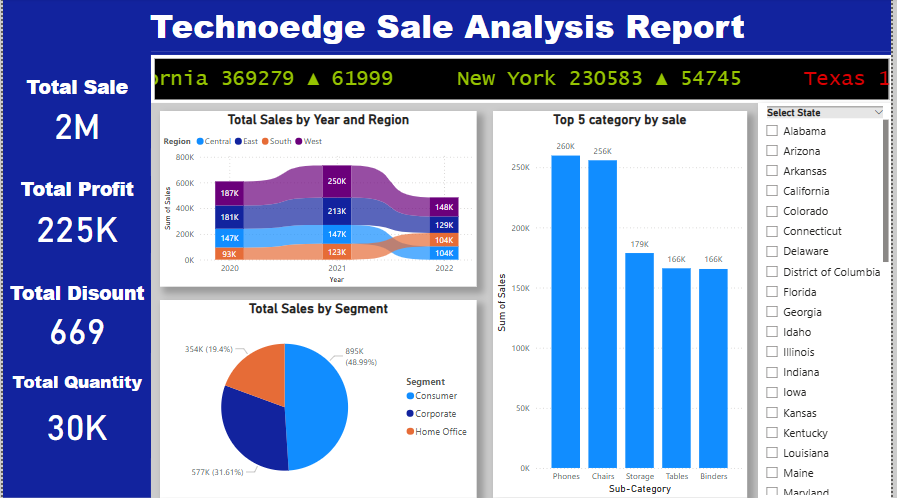

The dashboard page shown, as its layout file describes it:
{"tool":"powerbi","page":{"name":"Page 1","canvas":[1280,720],"ordinal":0},"visuals":[{"type":"shape","title":"Technoedge Sale Analysis Report","box":[0,0,1280.2,82.1],"z":0},{"type":"shape","box":[0,66.2,213.1,653.8],"z":1000},{"type":"card","title":"Total Sale","fields":{"Values":["Sum(TechnoEdge Monthy Sales Data.Sales)"]},"box":[0,109.4,213.1,106.6],"z":2000},{"type":"card","title":"Total Profit","fields":{"Values":["Sum(TechnoEdge Monthy Sales Data.Profit)"]},"box":[0,256.3,213.1,110.9],"z":3000},{"type":"card","title":"Total Disount","fields":{"Values":["Sum(TechnoEdge Monthy Sales Data.Discount)"]},"box":[0,406.1,213.1,105.1],"z":4000},{"type":"card","title":"Total Quantity","fields":{"Values":["Sum(TechnoEdge Monthy Sales Data.Quantity)"]},"box":[0,535.7,213.1,126.7],"z":5000},{"type":"ribbonChart","title":"Total Sales by Year and Region","fields":{"Category":["TechnoEdge Monthy Sales Data.Order Date.Variation.Date Hierarchy.Year"],"Y":["Sum(TechnoEdge Monthy Sales Data.Sales)"],"Series":["TechnoEdge Monthy Sales Data.Region"]},"box":[226.1,162.7,456.5,253.4],"z":6000},{"type":"pieChart","title":"Total Sales by Segment","fields":{"Y":["Sum(TechnoEdge Monthy Sales Data.Sales)"],"Category":["TechnoEdge Monthy Sales Data.Segment"]},"box":[226.1,434.9,456.5,285.1],"z":7000},{"type":"columnChart","title":"Top 5 category by sale","fields":{"Category":["TechnoEdge Monthy Sales Data.Sub-Category"],"Y":["Sum(TechnoEdge Monthy Sales Data.Sales)"]},"box":[705.6,162.7,365.8,557.3],"z":8000},{"type":"ScrollingTextVisual1448795304508","fields":{"Measure Absolute":["Sum(TechnoEdge Monthy Sales Data.Sales)"],"Category":["TechnoEdge Monthy Sales Data.State"],"Measure Deviation":["Sum(TechnoEdge Monthy Sales Data.Profit)"]},"box":[213.1,82.1,1067,69.1],"z":9000},{"type":"slicer","fields":{"Values":["TechnoEdge Monthy Sales Data.State"]},"box":[1087.2,151.2,193,568.8],"z":9001}]}

Visuals, with their boxes in screenshot pixels (x1, y1, x2, y2), scaled from the page's 1280x720 canvas onto the 897x498 screenshot:
"Technoedge Sale Analysis Report" shape: 0, 0, 896, 57
shape: 0, 46, 149, 497
"Total Sale" card: 0, 76, 149, 149
"Total Profit" card: 0, 177, 149, 254
"Total Disount" card: 0, 281, 149, 354
"Total Quantity" card: 0, 371, 149, 458
"Total Sales by Year and Region" ribbonChart: 158, 113, 478, 288
"Total Sales by Segment" pieChart: 158, 301, 478, 497
"Top 5 category by sale" columnChart: 494, 113, 751, 497
ScrollingTextVisual1448795304508 - Sum(TechnoEdge Monthy Sales Data.Sales) x TechnoEdge Monthy Sales Data.State: 149, 57, 896, 105
slicer - TechnoEdge Monthy Sales Data.State: 762, 105, 896, 497
